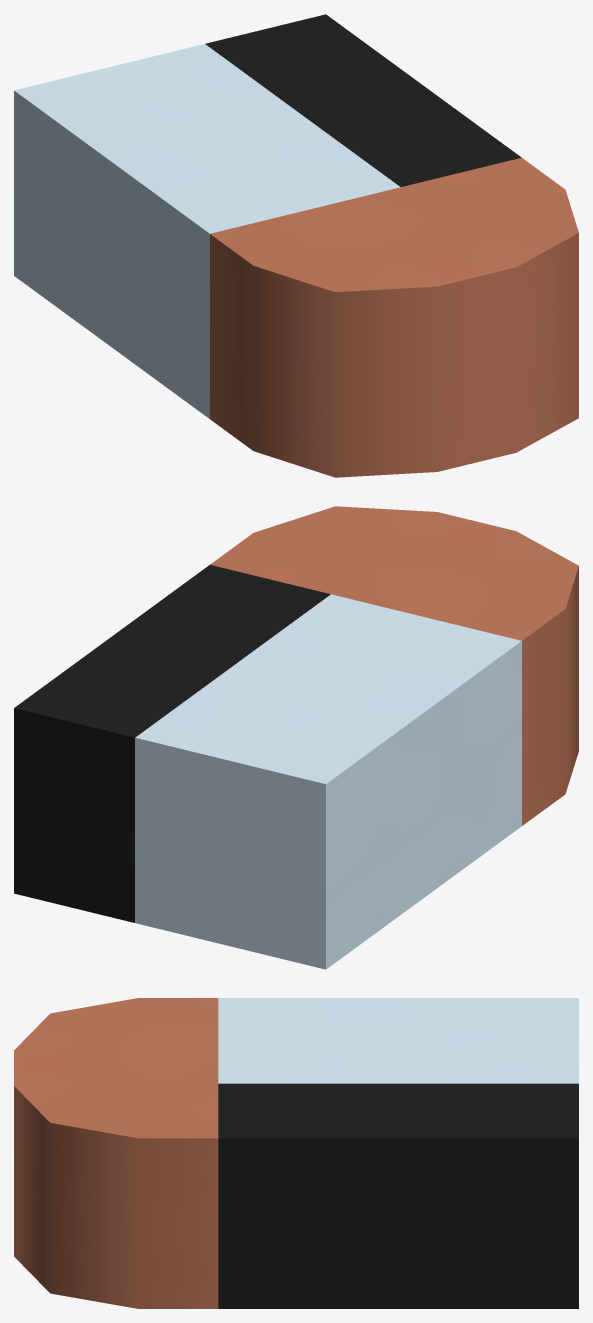
Rendered from Eraser.fbx.
The picture shows the model from 3 angles, top to bottom: view 1: azimuth 30°, elevation 25°; view 2: azimuth 150°, elevation 25°; view 3: azimuth 270°, elevation 25°; orthographic projection. The views are drawn at different scales.
Visible parts, largest first — view 1: Cube; view 2: Cube; view 3: Cube.
Boxes of the visible parts, x1,y1,x2,y2 form: Cube: [14, 14, 578, 477]; Cube: [14, 506, 578, 969]; Cube: [14, 998, 578, 1308].
Size of the model in its own units: 106 by 60 by 180.
